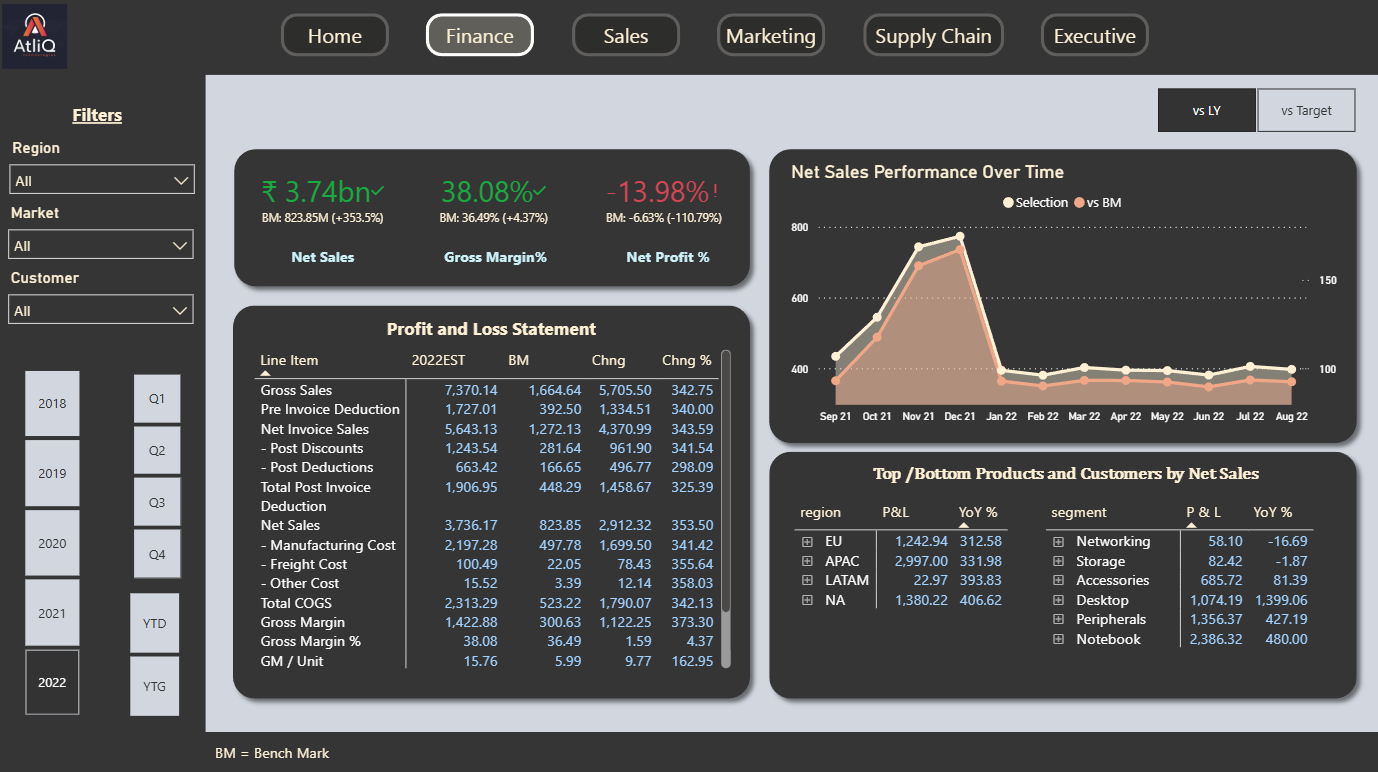

The dashboard page shown, as its layout file describes it:
{"tool":"powerbi","page":{"name":"Finance View","canvas":[1280,720],"ordinal":1},"visuals":[{"type":"shape","box":[0,0,1280,72.4],"z":0},{"type":"shape","box":[0,679.2,1280,41],"z":0,"group":"g1"},{"type":"shape","box":[0,0,193,720.2],"z":1000},{"type":"textbox","box":[196.6,684,147.2,31.4],"z":1000,"group":"g1"},{"type":"slicer","fields":{"Values":["gdb041 dim_market.market"]},"box":[0,185.8,191.8,60.3],"z":2000},{"type":"slicer","fields":{"Values":["gdb041 dim_customer.customer"]},"box":[0,246.1,191.8,59.1],"z":3000},{"type":"slicer","fields":{"Values":["gdb041 dim_market.region"]},"box":[1.2,125.5,191.8,60.3],"z":4000},{"type":"image","box":[0,0,70,72.4],"z":5000},{"type":"slicer","fields":{"Values":["fiscal_year.Fiscal Year"]},"box":[0,339,100.1,331.8],"z":6000},{"type":"slicer","fields":{"Values":["dim_date.Quaters"]},"box":[100.1,341.4,92.9,201.5],"z":7000},{"type":"slicer","fields":{"Values":["dim_date.ytd_ytg"]},"box":[96.5,544.1,95.3,126.7],"z":8000},{"type":"textbox","box":[65.1,92.9,65.1,32.6],"z":9000},{"type":"slicer","fields":{"Values":["NS BM.Benchmark "]},"box":[1047.1,77.2,232.8,54.3],"z":10000},{"type":"shape","box":[208.7,276.3,495.8,381.2],"z":11000},{"type":"shape","box":[704.6,411.4,561,246.1],"z":12000},{"type":"shape","box":[704.6,131.5,561,289.5],"z":13000},{"type":"shape","box":[209.9,131.5,494.6,144.8],"z":14000},{"type":"textbox","box":[292,289.5,329.4,32.6],"z":15000},{"type":"pivotTable","fields":{"Rows":["P&L rows.Line Item"],"Values":["Key Measures.P & L final value"],"Columns":["P&L columns.Col Headers"]},"box":[232.8,320.9,450,304],"z":16000},{"type":"areaChart","fields":{"Category":["dim_date.date"],"Y":["Key Measures.p&L values"],"Y2":["Key Measures.P&L BM"]},"box":[728.7,150.8,515.2,249.7],"z":17000},{"type":"pivotTable","fields":{"Rows":["gdb041 dim_market.region","gdb041 dim_market.market","gdb041 dim_customer.customer"],"Values":["Key Measures.p&L values","Key Measures.YoY %"]},"box":[732.3,460.9,222,174.9],"z":18000},{"type":"pivotTable","fields":{"Rows":["gdb041 dim_product.segment","gdb041 dim_product.category","gdb041 dim_product.product"],"Values":["Key Measures.p&L values","Key Measures.YoY %"]},"box":[965.2,460.9,278.7,187],"z":19000},{"type":"textbox","box":[761.3,425.9,448.8,33.8],"z":20000},{"type":"textbox","box":[553.8,225.6,133.9,30.2],"z":21000},{"type":"textbox","box":[232.8,225.6,135.1,30.2],"z":22000},{"type":"textbox","box":[392.7,225.6,136.3,30.2],"z":23000},{"type":"kpi","fields":{"Indicator":["Key Measures.Net Sales $"],"Goal":["Key Measures.NS BM $"],"TrendLine":["dim_date.Fiscal Year"]},"box":[220.8,146,160.5,79.6],"z":24000},{"type":"kpi","fields":{"TrendLine":["dim_date.Fiscal Year"],"Indicator":["Key Measures.GM %"],"Goal":["Key Measures.GM % BM"]},"box":[378.4,146,160,80],"z":25000},{"type":"kpi","fields":{"Goal":["Key Measures.NP % BM"],"TrendLine":["dim_date.Fiscal Year"],"Indicator":["Key Measures.Net Profit %"]},"box":[535.7,146,160.5,79.6],"z":26000},{"type":"actionButton","box":[261.8,14.7,100.1,39.8],"z":27000},{"type":"actionButton","box":[396.4,14.7,100.1,39.8],"z":28000},{"type":"actionButton","box":[531.1,14.7,100.1,39.8],"z":29000},{"type":"actionButton","box":[665.7,14.7,100.1,39.8],"z":30000},{"type":"actionButton","box":[800.4,14.7,130.3,39.8],"z":31000},{"type":"actionButton","box":[965.2,14.7,100.1,39.8],"z":32000},{"type":"group","id":"g1","title":"Footer","box":[0,679.2,1280,41],"z":33000}]}

Visuals, with their boxes in screenshot pixels (x1, y1, x2, y2), scaled from the page's 1280x720 canvas onto the 1378x772 screenshot:
shape: (0, 0, 1377, 78)
shape: (0, 728, 1377, 771)
shape: (0, 0, 208, 771)
textbox: (212, 733, 370, 767)
slicer - gdb041 dim_market.market: (0, 199, 206, 264)
slicer - gdb041 dim_customer.customer: (0, 264, 206, 327)
slicer - gdb041 dim_market.region: (1, 135, 208, 199)
image: (0, 0, 75, 78)
slicer - fiscal_year.Fiscal Year: (0, 363, 108, 719)
slicer - dim_date.Quaters: (108, 366, 208, 582)
slicer - dim_date.ytd_ytg: (104, 583, 206, 719)
textbox: (70, 100, 140, 135)
slicer - NS BM.Benchmark : (1127, 83, 1377, 141)
shape: (225, 296, 758, 705)
shape: (759, 441, 1362, 705)
shape: (759, 141, 1362, 451)
shape: (226, 141, 758, 296)
textbox: (314, 310, 669, 345)
pivotTable - P&L rows.Line Item x Key Measures.P & L final value: (251, 344, 735, 670)
areaChart - dim_date.date x Key Measures.p&L values: (784, 162, 1339, 429)
pivotTable - gdb041 dim_market.region x gdb041 dim_market.market: (788, 494, 1027, 682)
pivotTable - gdb041 dim_product.segment x gdb041 dim_product.category: (1039, 494, 1339, 695)
textbox: (820, 457, 1303, 493)
textbox: (596, 242, 740, 274)
textbox: (251, 242, 396, 274)
textbox: (423, 242, 570, 274)
kpi - Key Measures.Net Sales $ x Key Measures.NS BM $: (238, 157, 410, 242)
kpi - dim_date.Fiscal Year x Key Measures.GM %: (407, 157, 580, 242)
kpi - Key Measures.NP % BM x dim_date.Fiscal Year: (577, 157, 750, 242)
actionButton: (282, 16, 390, 58)
actionButton: (427, 16, 535, 58)
actionButton: (572, 16, 680, 58)
actionButton: (717, 16, 824, 58)
actionButton: (862, 16, 1002, 58)
actionButton: (1039, 16, 1147, 58)
"Footer" group: (0, 728, 1377, 771)
